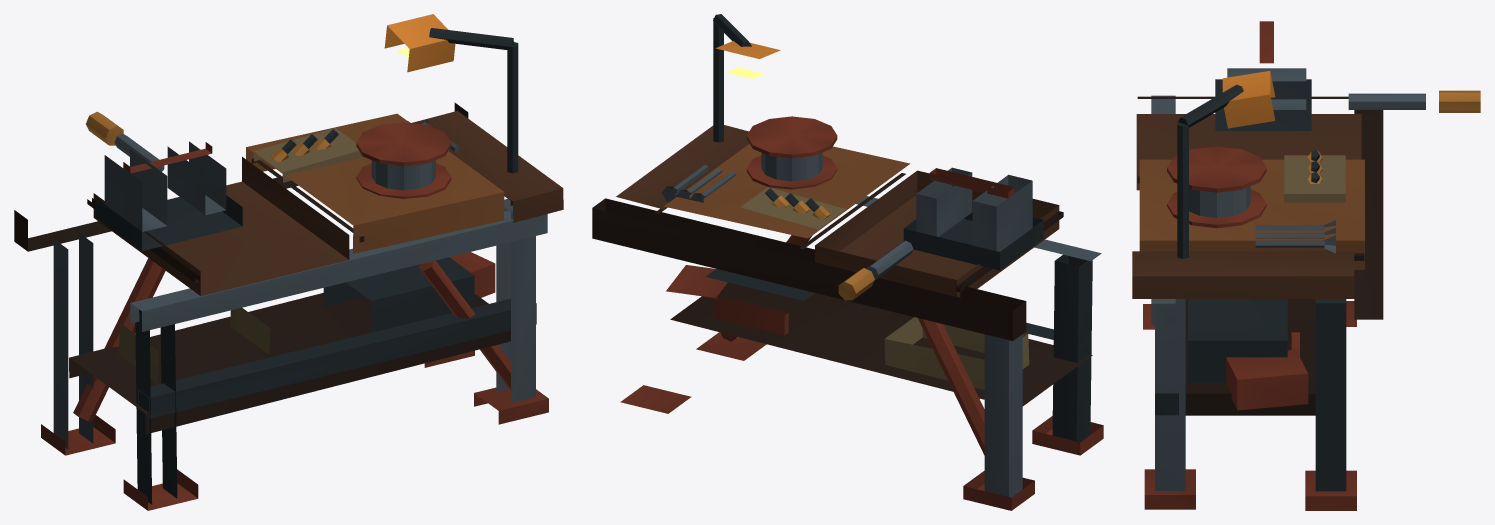
File: salvaged_workbench.glb
The picture shows the model from 3 angles, left to right: view 1: azimuth 30°, elevation 25°; view 2: azimuth 150°, elevation 25°; view 3: azimuth 270°, elevation 25°; orthographic projection. The views are drawn at different scales.
Visible parts, largest first — view 1: SalvagedWorkbench_Mesh; view 2: SalvagedWorkbench_Mesh; view 3: SalvagedWorkbench_Mesh.
Part boxes in pixels (left/top/right/bottom): SalvagedWorkbench_Mesh: left=14, top=14, right=563, bottom=510; SalvagedWorkbench_Mesh: left=592, top=14, right=1103, bottom=510; SalvagedWorkbench_Mesh: left=1132, top=21, right=1480, bottom=510.
Bounding box in the file's own units: 1.66 × 1.33 × 1.08.
